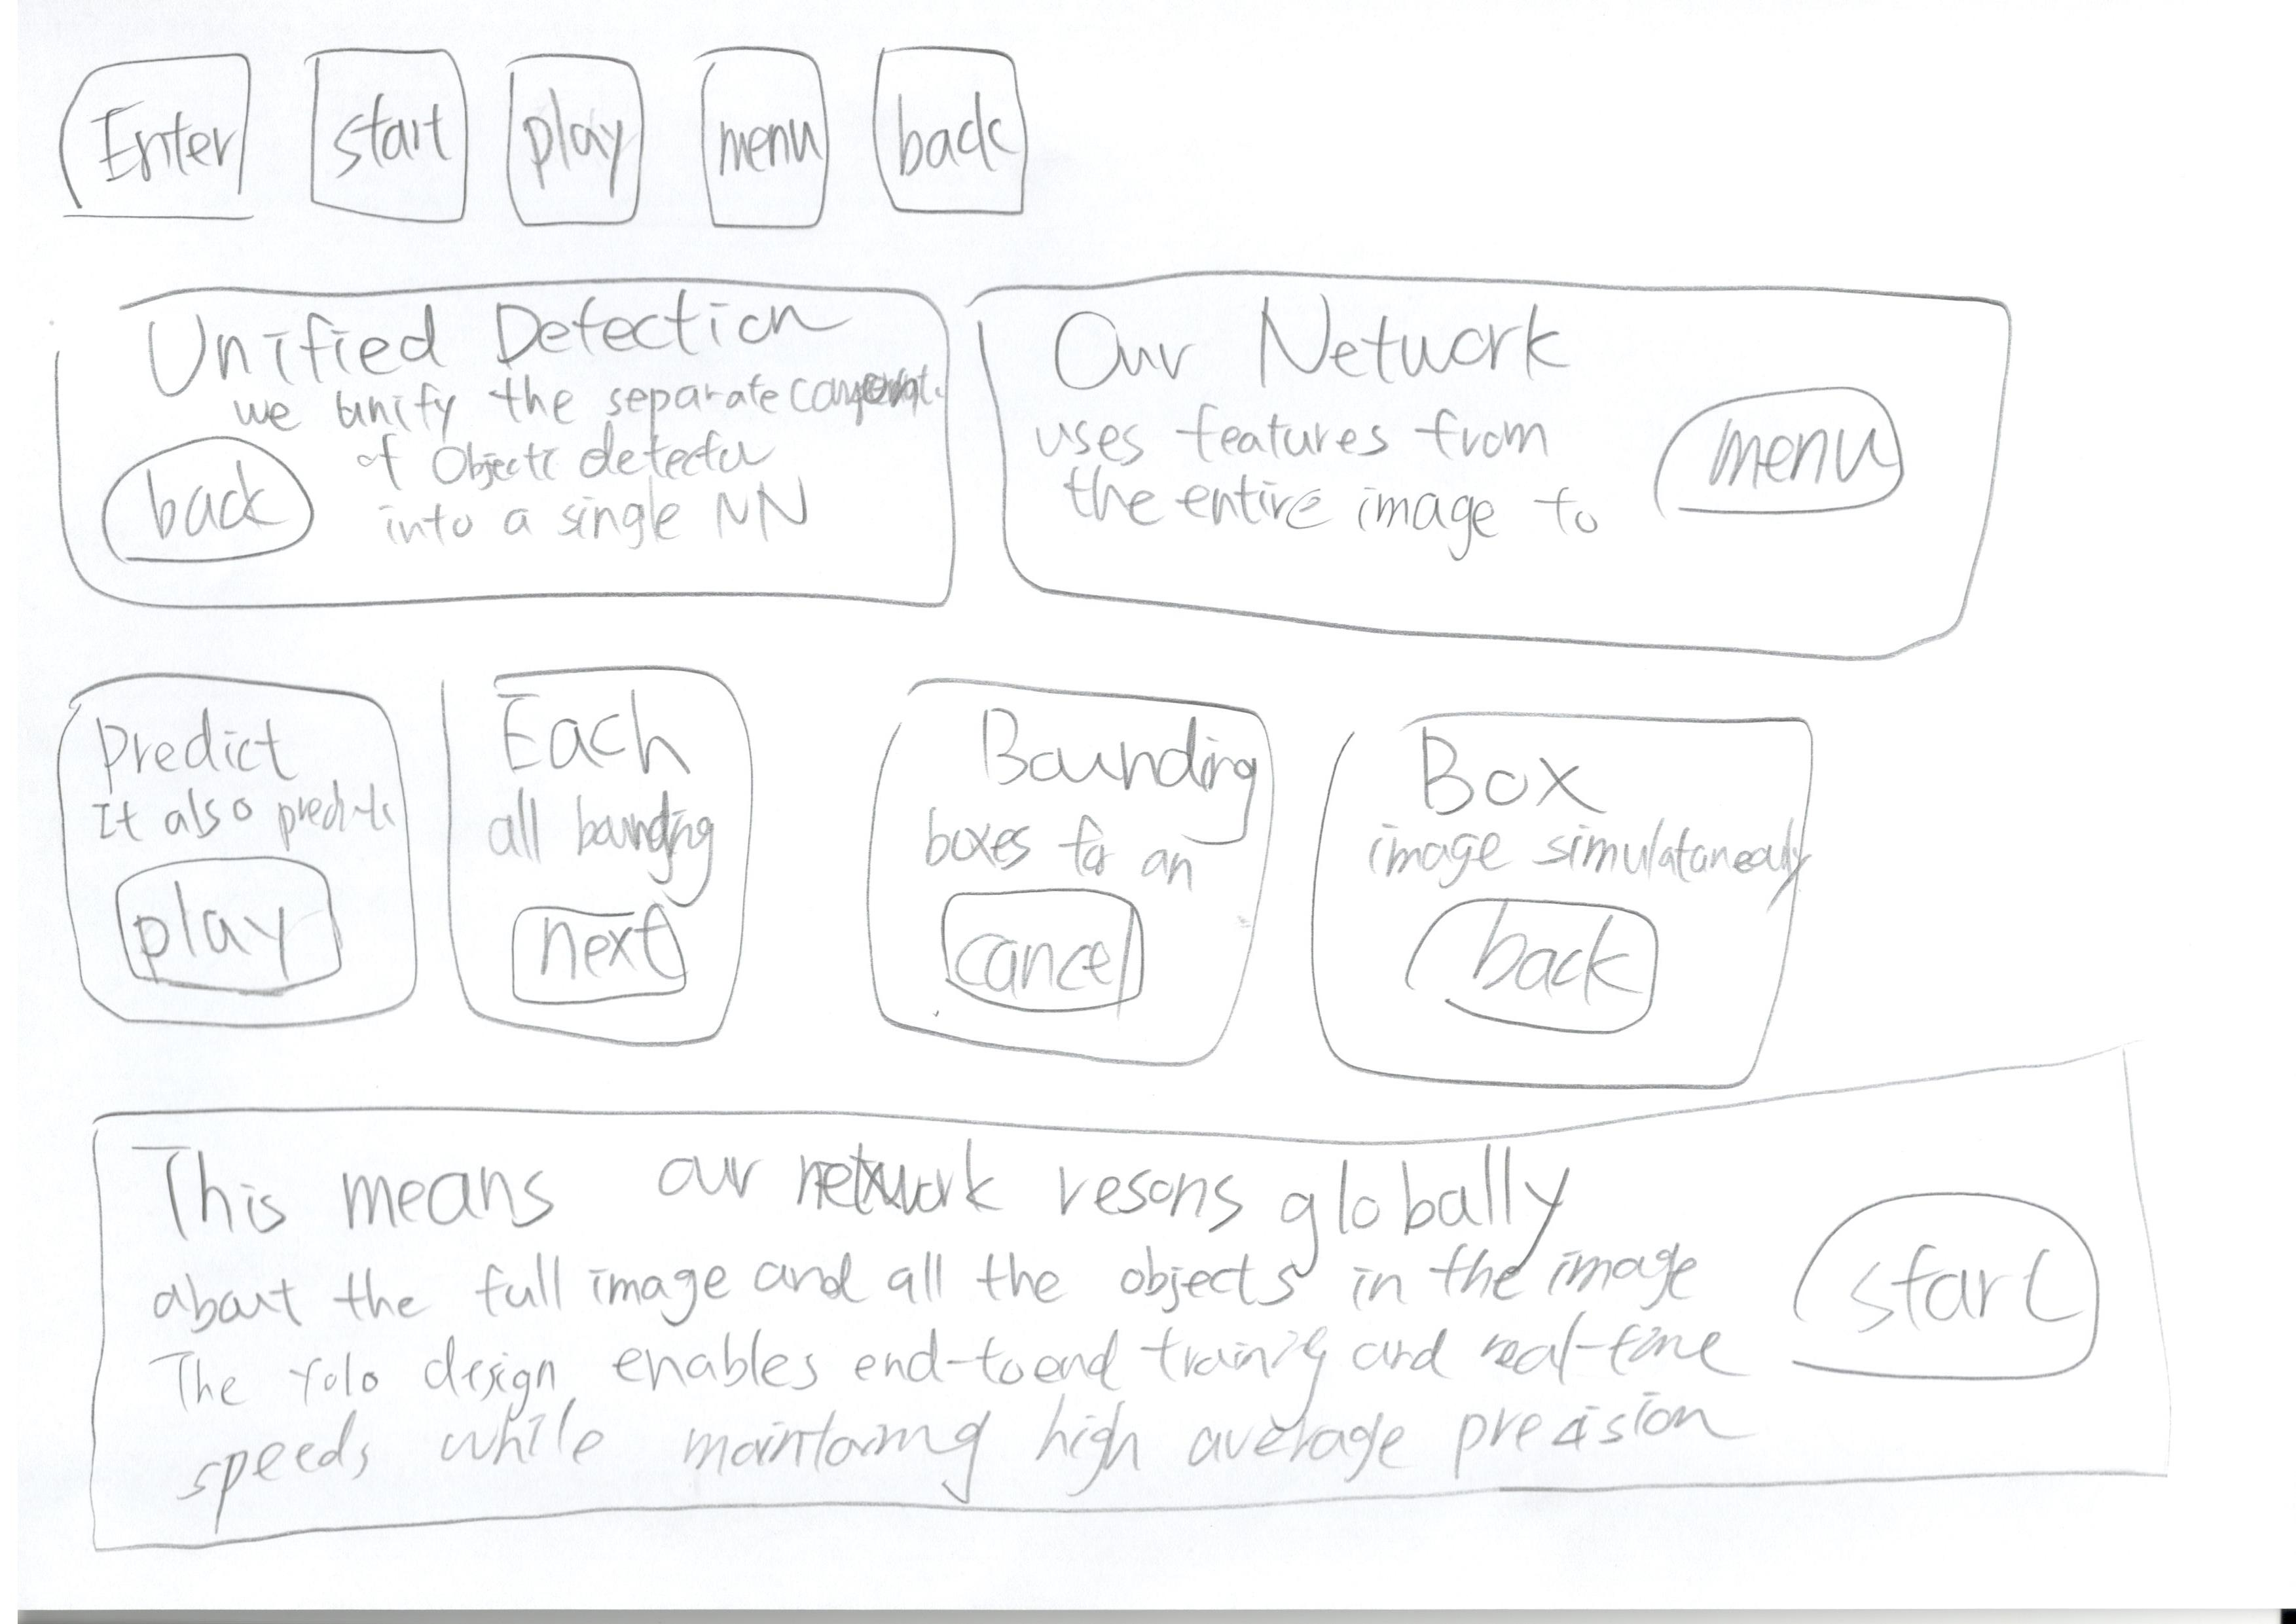back: (1371, 875, 1725, 1060), (853, 12, 1057, 260), (93, 408, 332, 571)
btn-active: (40, 40, 269, 250)
double: (956, 250, 2052, 668), (35, 241, 970, 643)
menu: (1640, 359, 1941, 541), (673, 25, 858, 271)
next: (483, 881, 714, 1032)
play: (97, 847, 373, 1016)
quadruple: (1294, 656, 1881, 1128), (840, 642, 1303, 1088), (35, 647, 432, 1074), (431, 629, 828, 1056)
row: (5, 608, 2296, 1144), (5, 1088, 2296, 1624), (5, 236, 2296, 694), (14, 7, 2296, 301)
single: (39, 1048, 2280, 1571)
small-title: (148, 1132, 1600, 1262), (1034, 295, 1621, 392), (128, 306, 828, 378), (970, 705, 1257, 801), (485, 677, 705, 780), (84, 700, 323, 787), (1420, 736, 1572, 814)
start: (1763, 1162, 2134, 1406), (283, 19, 492, 241)
text: (113, 1264, 1689, 1489), (302, 374, 928, 557), (1041, 401, 1631, 576), (916, 810, 1211, 905), (84, 784, 401, 861), (1354, 835, 1798, 882), (483, 787, 714, 854)
